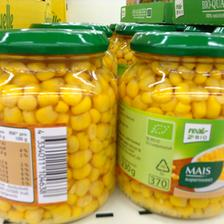Mais: (1, 28, 116, 222), (116, 30, 224, 218)
